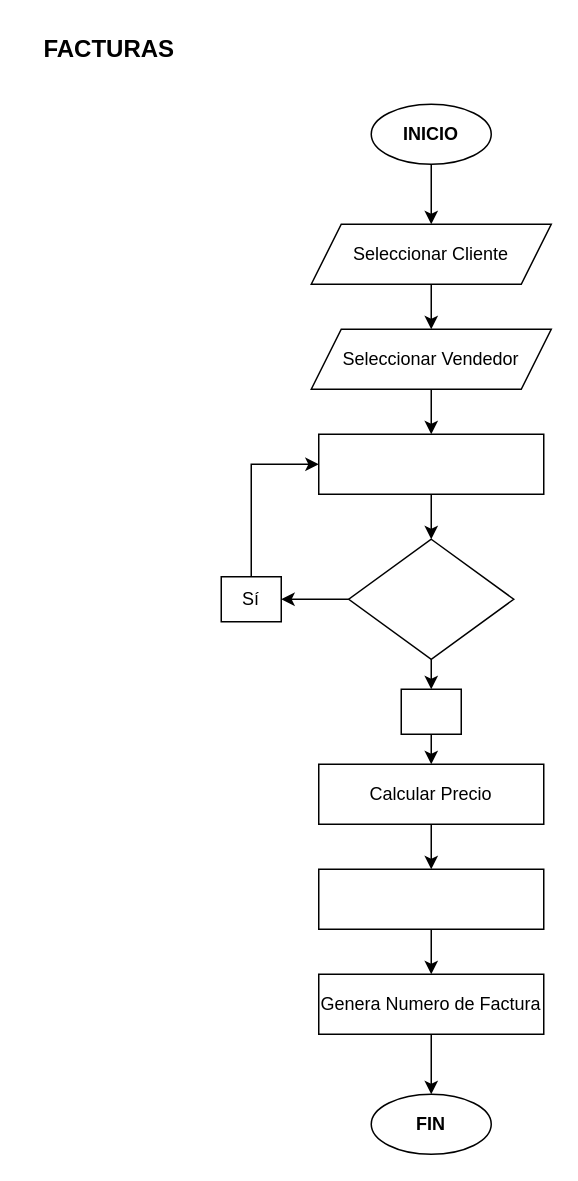
The diagram is 578 pixels wide and 1181 high, and some of its shapes have lost their labels. The shapes that lost their labels are listed below. From the top down, each one's centre as x and y in pixels, then its label:
At pixel 430 463: "Añade Producto".
At pixel 430 598: "¿Más Productos por añadir?".
At pixel 430 711: "No".
At pixel 430 898: "Calcular Impuestos".
